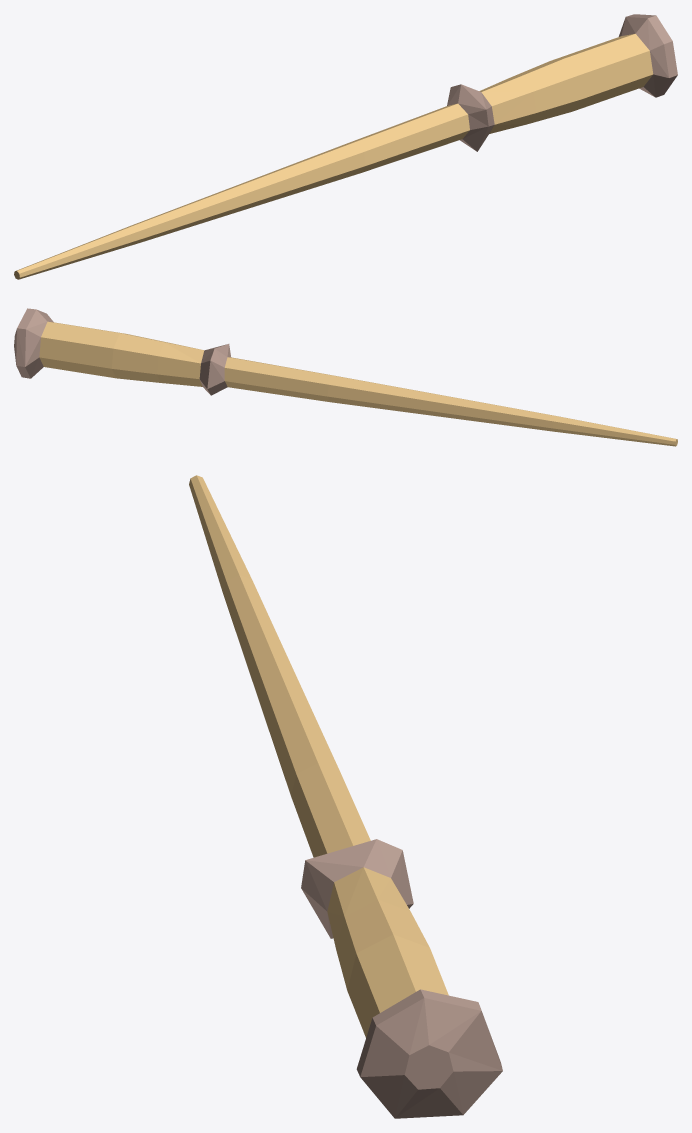
File: harry potter wand.glb
The picture shows the model from 3 angles, top to bottom: view 1: azimuth 30°, elevation 25°; view 2: azimuth 150°, elevation 25°; view 3: azimuth 270°, elevation 25°; orthographic projection. The views are drawn at different scales.
Visible parts, largest first — view 1: group2082736007; view 2: group2082736007; view 3: group2082736007.
Boxes of the visible parts, x1=… form: group2082736007: x1=14, y1=14, x2=677, y2=279; group2082736007: x1=14, y1=308, x2=677, y2=446; group2082736007: x1=189, y1=475, x2=502, y2=1118.
Bounding box in the file's own units: 2.04 × 0.1977 × 0.4595.
